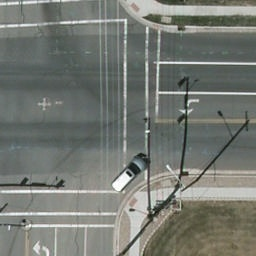car: (109, 156, 152, 195)
